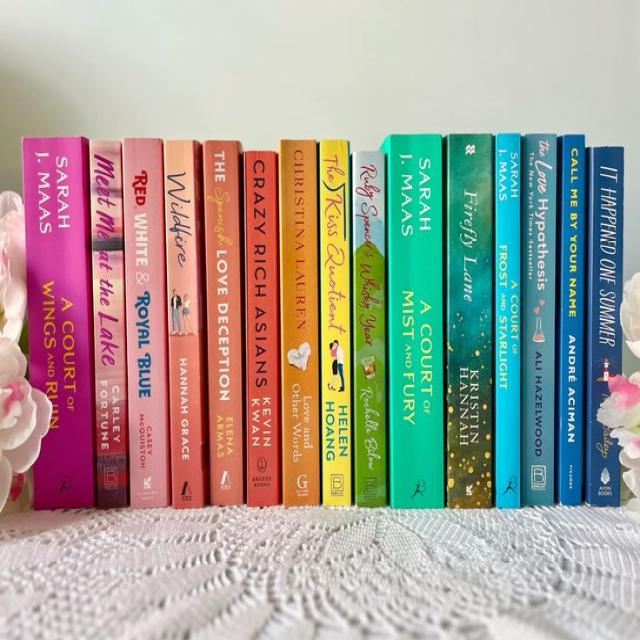book: (23, 137, 96, 509), (381, 133, 443, 507), (444, 133, 494, 508), (123, 138, 169, 506), (164, 140, 207, 507), (279, 139, 320, 504), (203, 140, 243, 504), (90, 140, 129, 507), (584, 146, 623, 504), (521, 133, 557, 503), (245, 151, 281, 506), (352, 151, 388, 506), (320, 140, 350, 506), (555, 134, 584, 503), (494, 134, 520, 507)
